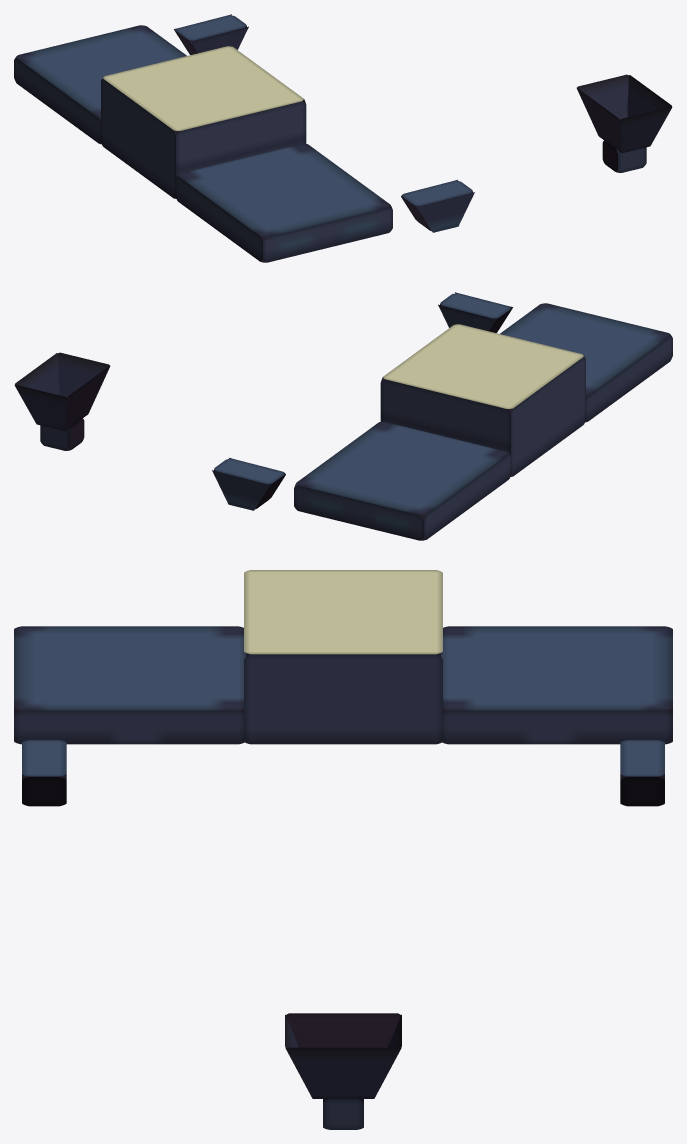
The model's file is hxd3d_top_a.obj.
The picture shows the model from 3 angles, top to bottom: view 1: azimuth 30°, elevation 25°; view 2: azimuth 150°, elevation 25°; view 3: azimuth 270°, elevation 25°; orthographic projection. The views are drawn at different scales.
Visible parts, largest first — view 1: 定位; view 2: 定位; view 3: 定位.
Boxes of the visible parts, x1,y1,x2,y2 form: 定位: [14, 14, 672, 262]; 定位: [14, 292, 672, 540]; 定位: [14, 570, 672, 1129].
Size of the model in its own units: 3.94 by 1.31 by 3.31.
